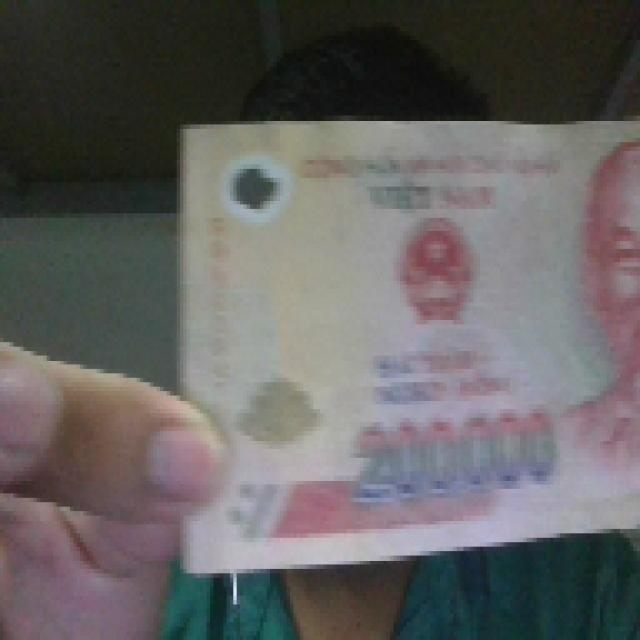200 000 VND: (166, 104, 633, 571)
